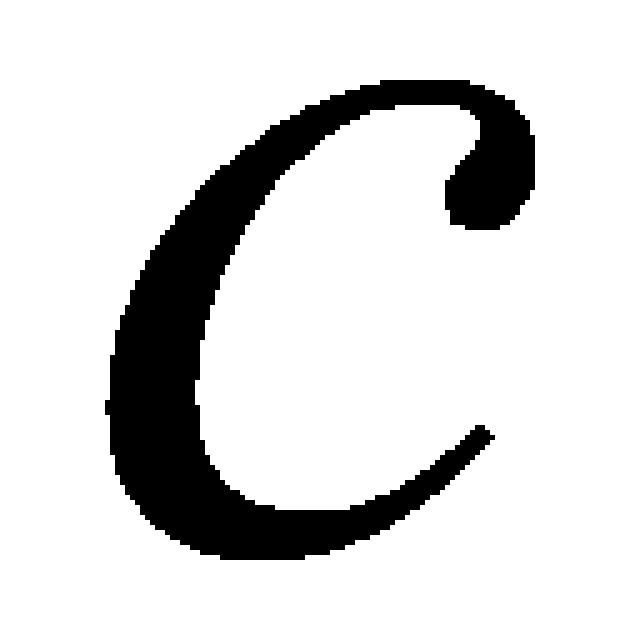C: (110, 80, 540, 565)
